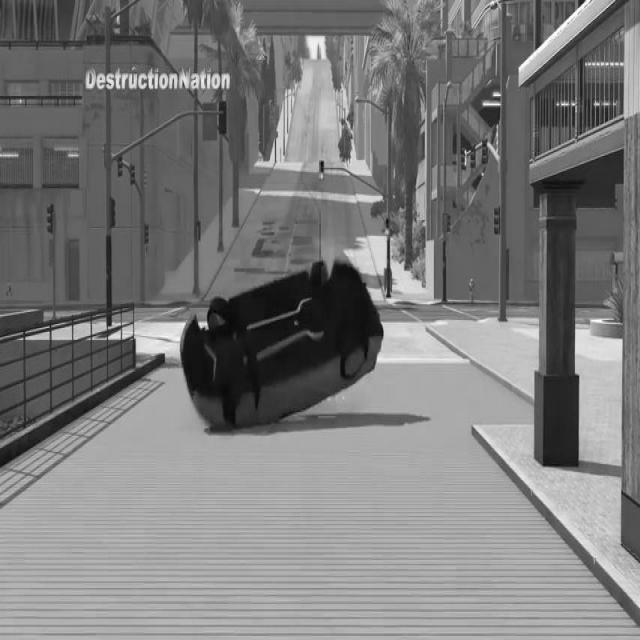accident: (172, 245, 386, 435)
